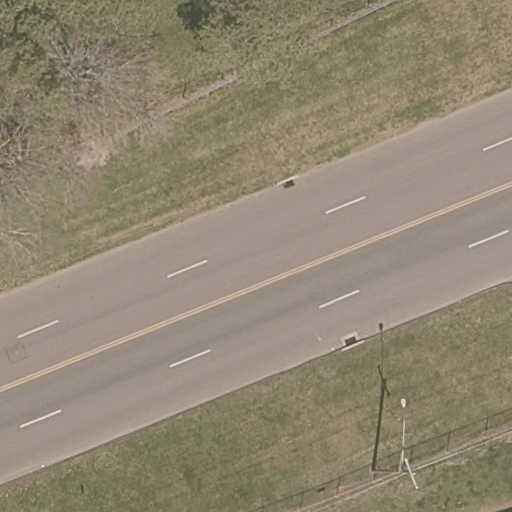DT: (402, 456, 422, 491)
